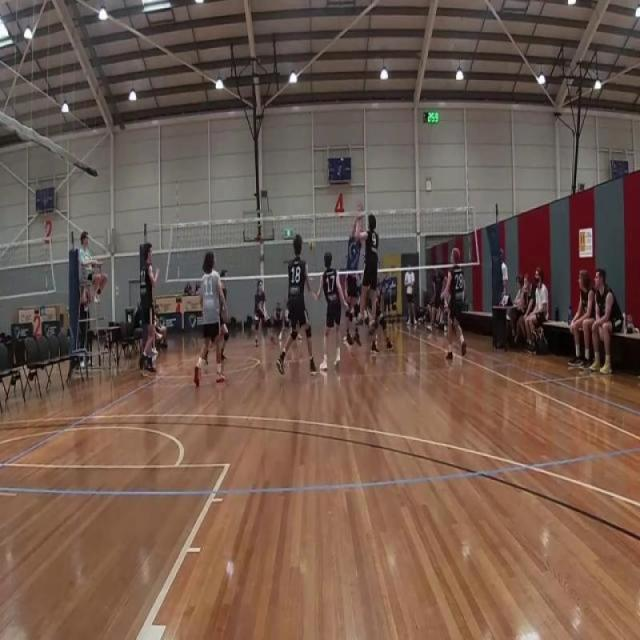volleyball: (308, 239, 316, 254)
